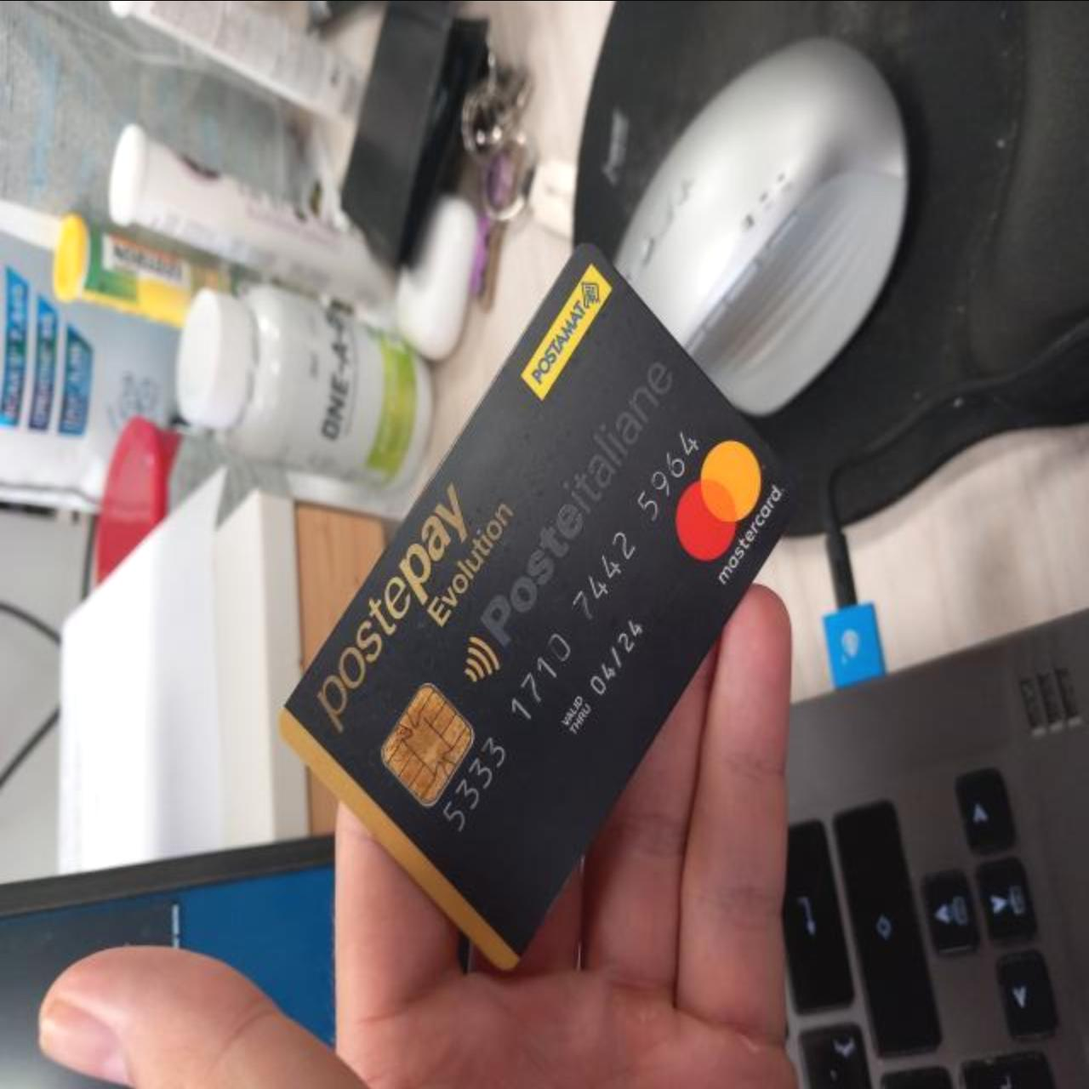credit_card: (286, 228, 813, 977)
